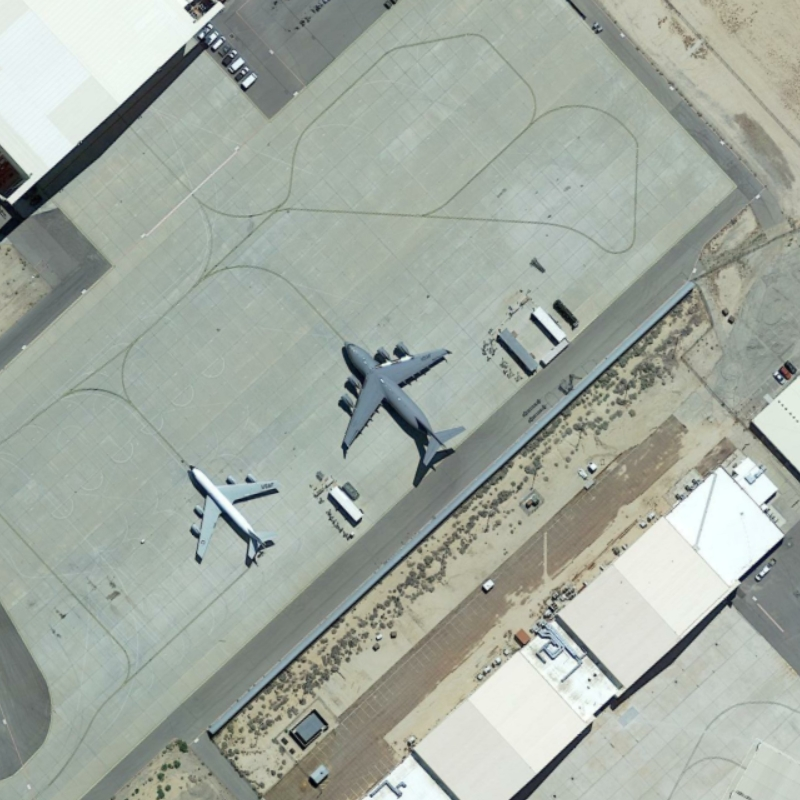A11: (177, 455, 287, 567)
A3: (322, 328, 482, 476)
